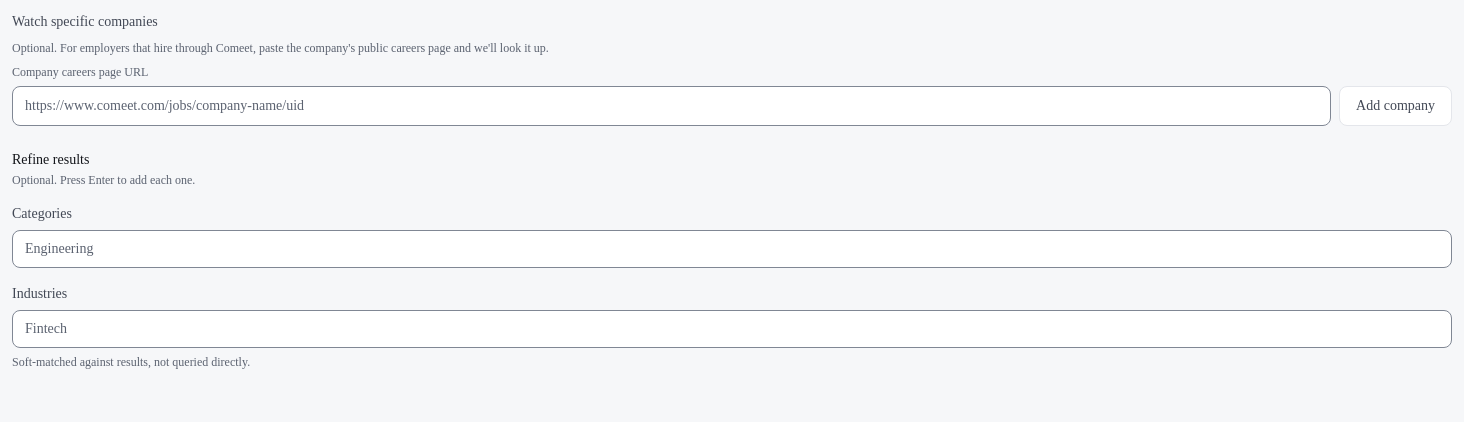
Test: StepSources › resolves a Comeet URL into a company tag and clears the field
Type "https://www.comeet.com/jobs/wix/u1" into the field labelled "Company careers page URL".
click(672, 106); type("https://www.comeet.com/jobs/wix/u1")  # box [12, 86, 1331, 126]
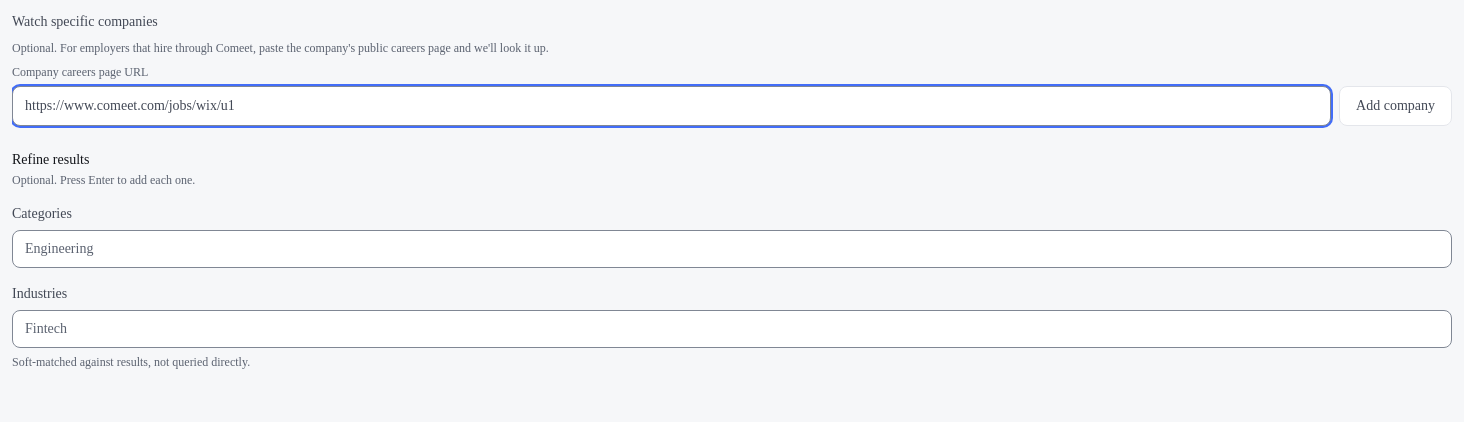
Click the button "Add company".
click(1396, 106)  # box [1339, 86, 1452, 126]
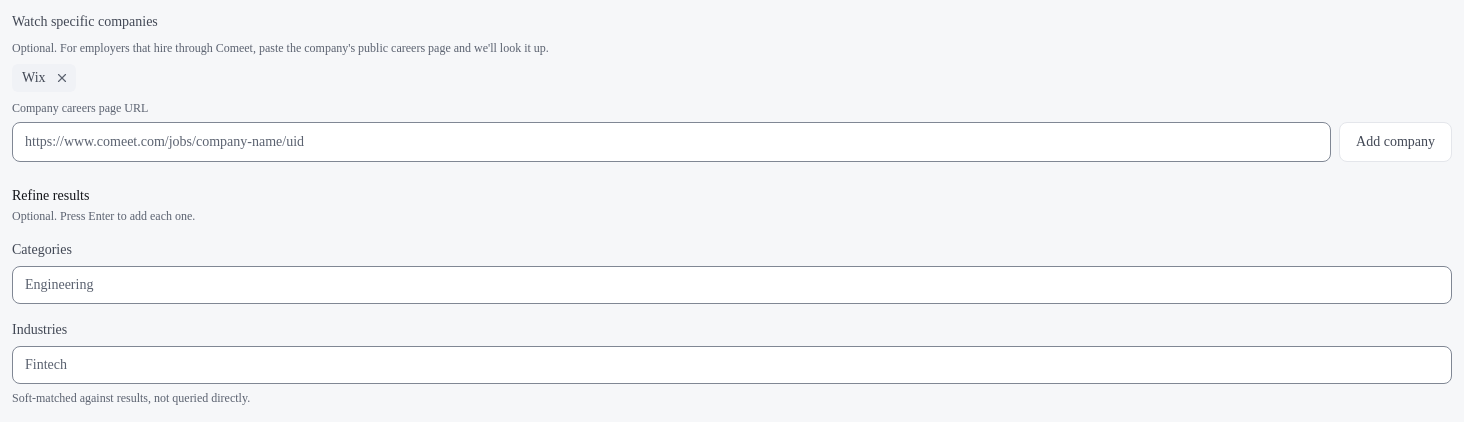
Expected: the text "Wix" is shown, [22, 68, 46, 88]
Expected: the field labelled "Company careers page URL" is empty, [12, 122, 1331, 162]
